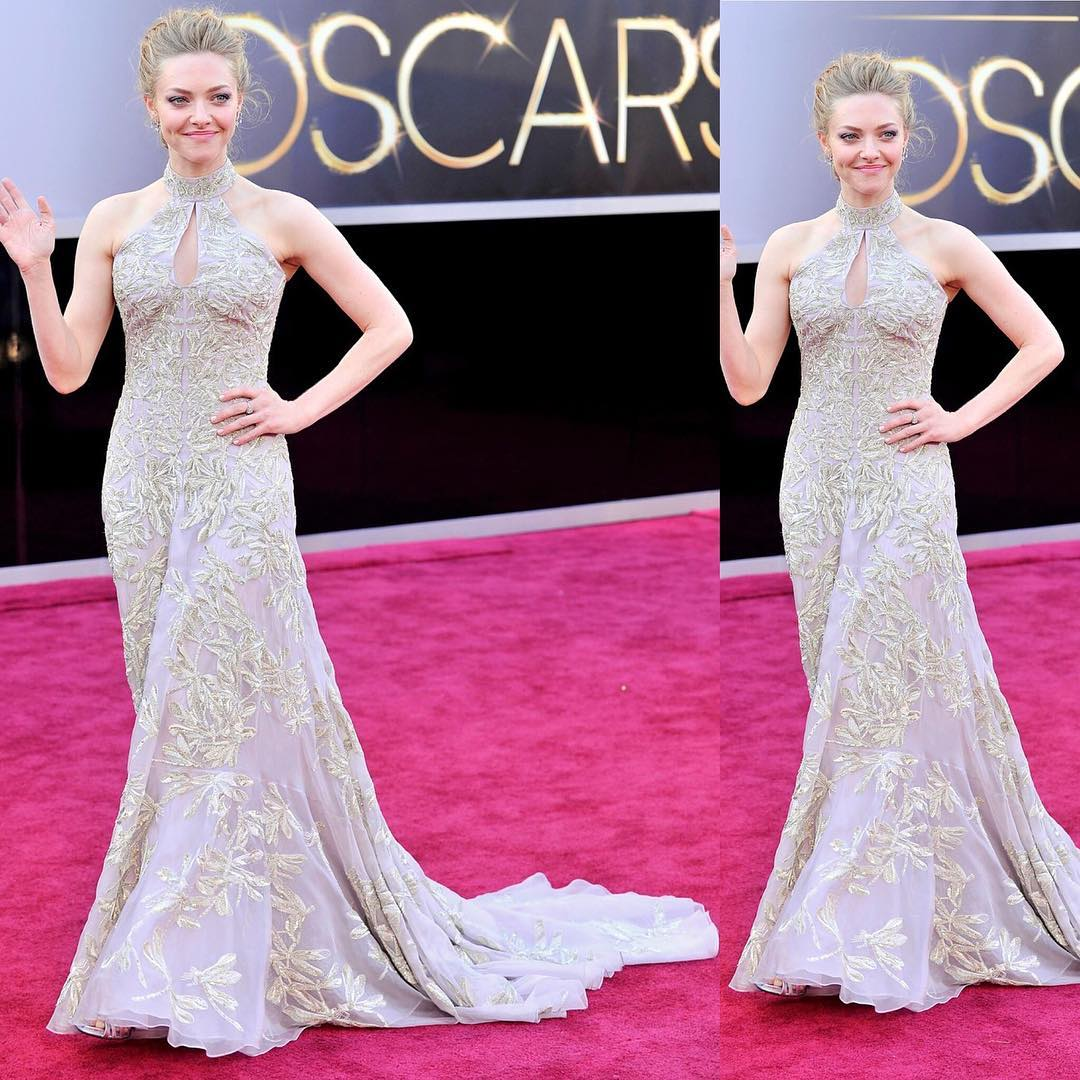hand: (215, 394, 299, 433)
